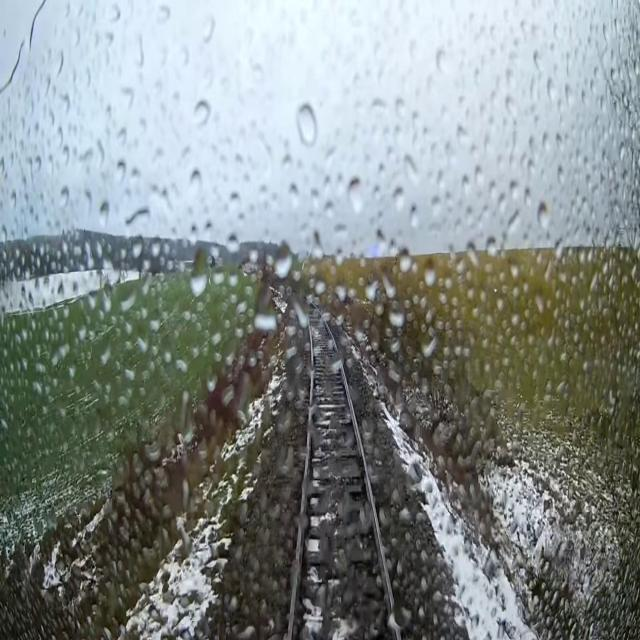rail-track: (278, 289, 396, 639)
